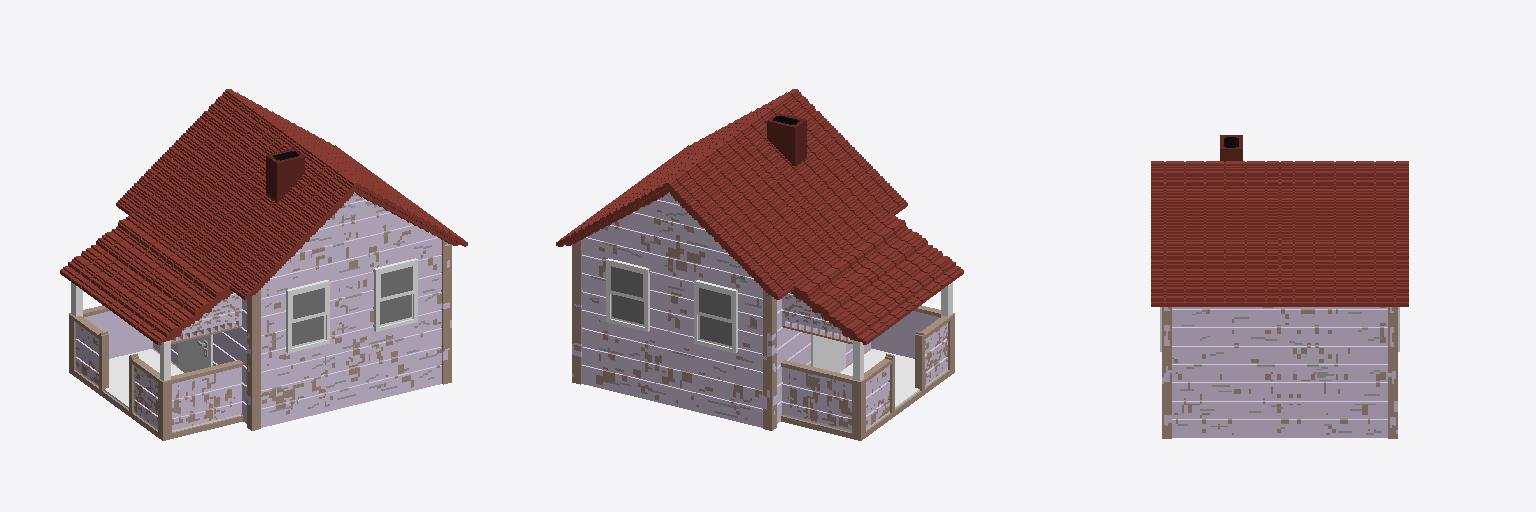
3 renders of one model, left to right at view 1: azimuth 30°, elevation 25°; view 2: azimuth 150°, elevation 25°; view 3: azimuth 270°, elevation 25°, orthographic.
Visible parts, largest first — view 1: object 1; view 2: object 1; view 3: object 1.
Boxes of the visible parts, <box> form: object 1: <box>60,89,467,440</box>; object 1: <box>556,89,963,440</box>; object 1: <box>1151,135,1408,438</box>.
Bounding box in the file's own units: 16.8 × 12.7 × 12.7.
Materials: 1 (1 with a texture image).